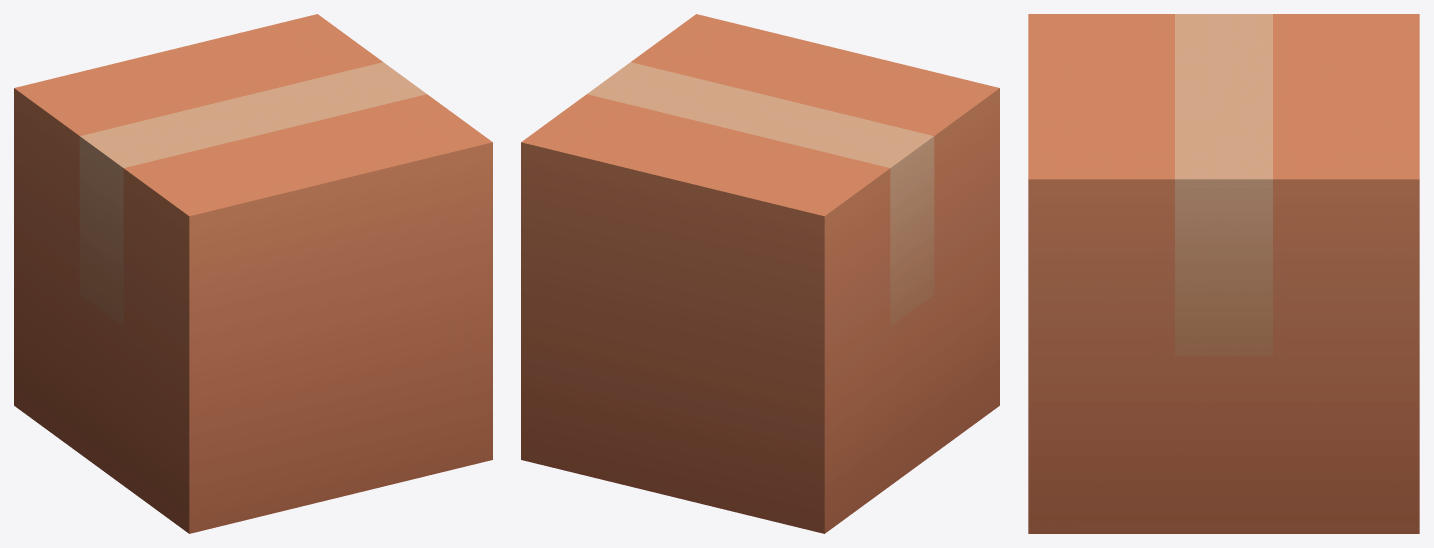
File: box-small-transformed.glb
3 views of the same model, side by side, from view 1: azimuth 30°, elevation 25°; view 2: azimuth 150°, elevation 25°; view 3: azimuth 270°, elevation 25° (orthographic). The views are drawn at different scales.
Visible parts, largest first — view 1: box-small; view 2: box-small; view 3: box-small.
Boxes of the visible parts, x1=… form: box-small: x1=14, y1=14, x2=492, y2=533; box-small: x1=521, y1=14, x2=999, y2=533; box-small: x1=1028, y1=14, x2=1419, y2=533.
Bounding box in the file's own units: 0.5 × 0.5 × 0.5.
1 material, 1 textured.
